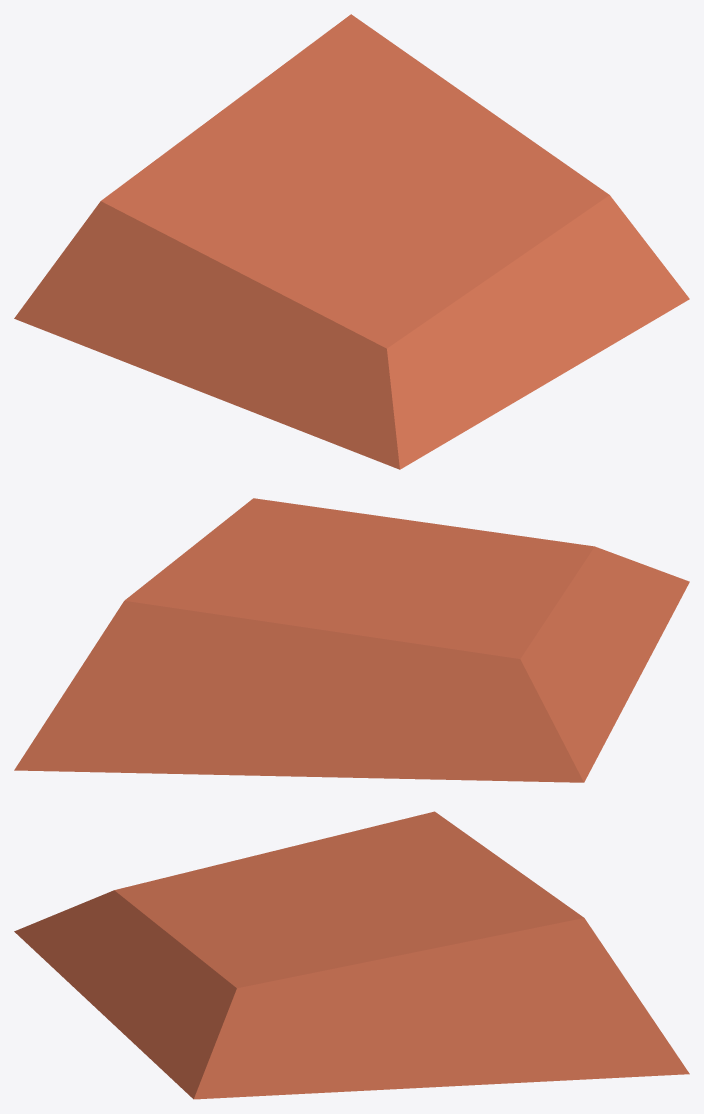
File: Rock_Mesa_Small_6.fbx
3 renders of one model, top to bottom at view 1: azimuth 30°, elevation 25°; view 2: azimuth 150°, elevation 25°; view 3: azimuth 270°, elevation 25°, orthographic. The views are drawn at different scales.
Visible parts, largest first — view 1: Rock; view 2: Rock; view 3: Rock.
Part boxes in pixels (x1,y1,x2,y2): Rock: (14, 14, 689, 469); Rock: (14, 498, 689, 782); Rock: (14, 811, 689, 1099).
Bounding box in the file's own units: 26.44 × 7.18 × 33.33.
